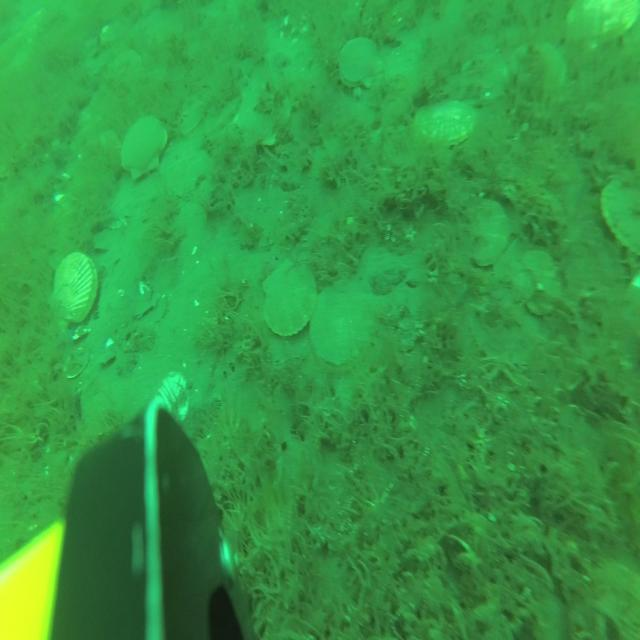scallop: (310, 274, 373, 366), (589, 560, 640, 640), (237, 78, 290, 152), (565, 1, 640, 51), (265, 263, 317, 333), (600, 176, 640, 261), (50, 254, 97, 326), (415, 96, 479, 148), (120, 114, 168, 180), (509, 42, 566, 90), (472, 199, 511, 269), (335, 36, 383, 90), (157, 374, 190, 424)
